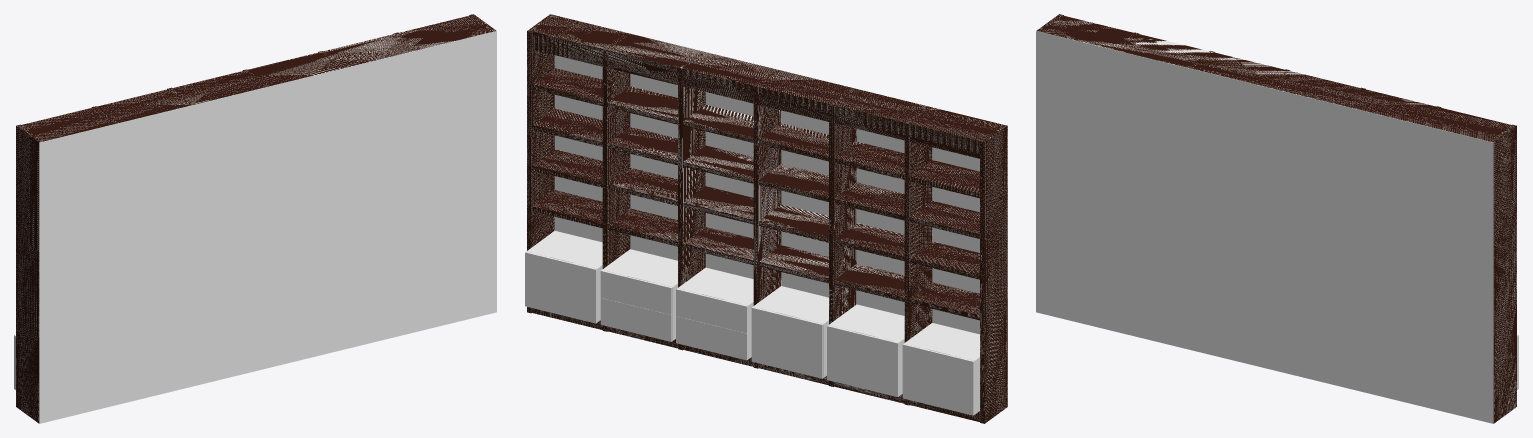
3 views of the same model, side by side, from view 1: azimuth 30°, elevation 25°; view 2: azimuth 150°, elevation 25°; view 3: azimuth 330°, elevation 25° (orthographic).
Parts seen in each view (by area): view 1: mesh13_mesh13-geometry, mesh1_mesh1-geometry, mesh12_mesh12-geometry; view 2: mesh1_mesh1-geometry, mesh12_mesh12-geometry, mesh13_mesh13-geometry, mesh8_mesh8-geometry, mesh10_mesh10-geometry, mesh2_mesh2-geometry, mesh4_mesh4-geometry, mesh6_mesh6-geometry; view 3: mesh13_mesh13-geometry, mesh1_mesh1-geometry, mesh12_mesh12-geometry.
Boxes of the visible parts, <box> form: mesh13_mesh13-geometry: <box>39,31,496,423</box>; mesh1_mesh1-geometry: <box>22,15,491,141</box>; mesh12_mesh12-geometry: <box>16,14,496,423</box>; mesh1_mesh1-geometry: <box>532,15,1002,421</box>; mesh12_mesh12-geometry: <box>527,14,1007,423</box>; mesh13_mesh13-geometry: <box>550,14,1007,406</box>; mesh8_mesh8-geometry: <box>525,251,974,415</box>; mesh10_mesh10-geometry: <box>526,231,979,414</box>; mesh2_mesh2-geometry: <box>600,270,748,333</box>; mesh4_mesh4-geometry: <box>600,298,748,360</box>; mesh6_mesh6-geometry: <box>602,249,753,358</box>; mesh13_mesh13-geometry: <box>1036,31,1493,423</box>; mesh1_mesh1-geometry: <box>1041,15,1510,141</box>; mesh12_mesh12-geometry: <box>1036,14,1516,423</box>.
Bounding box in the file's own units: 0.8581 × 0.5042 × 0.0972.
